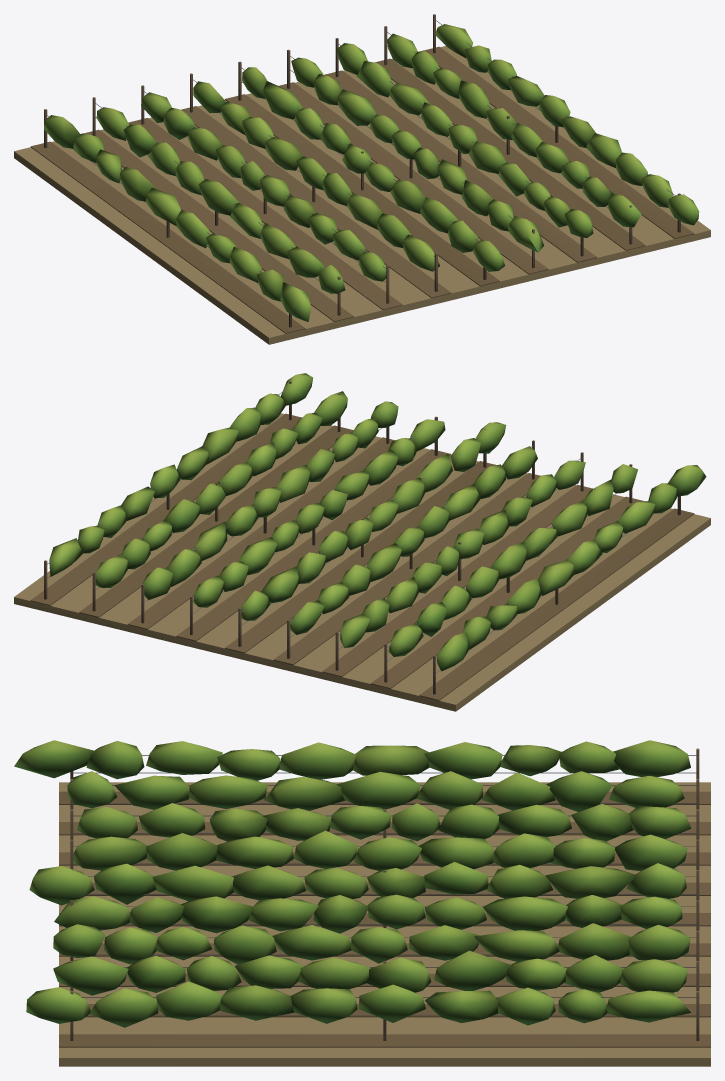
Rendered from vineyard_rows.glb.
3 views of the same model, one above another, from view 1: azimuth 30°, elevation 25°; view 2: azimuth 150°, elevation 25°; view 3: azimuth 270°, elevation 25° (orthographic). The views are drawn at different scales.
Visible parts, largest first — view 1: vineyard_rows_mesh; view 2: vineyard_rows_mesh; view 3: vineyard_rows_mesh.
Part boxes in pixels (x1=…): vineyard_rows_mesh: x1=14, y1=14, x2=710, y2=344; vineyard_rows_mesh: x1=14, y1=373, x2=710, y2=711; vineyard_rows_mesh: x1=14, y1=740, x2=710, y2=1066.
Bounding box in the file's own units: 20 × 2.34 × 21.38.
